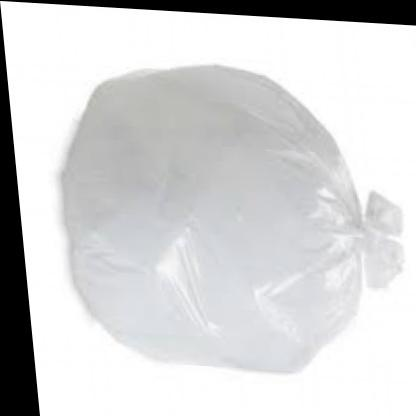trash: (62, 66, 402, 371)
